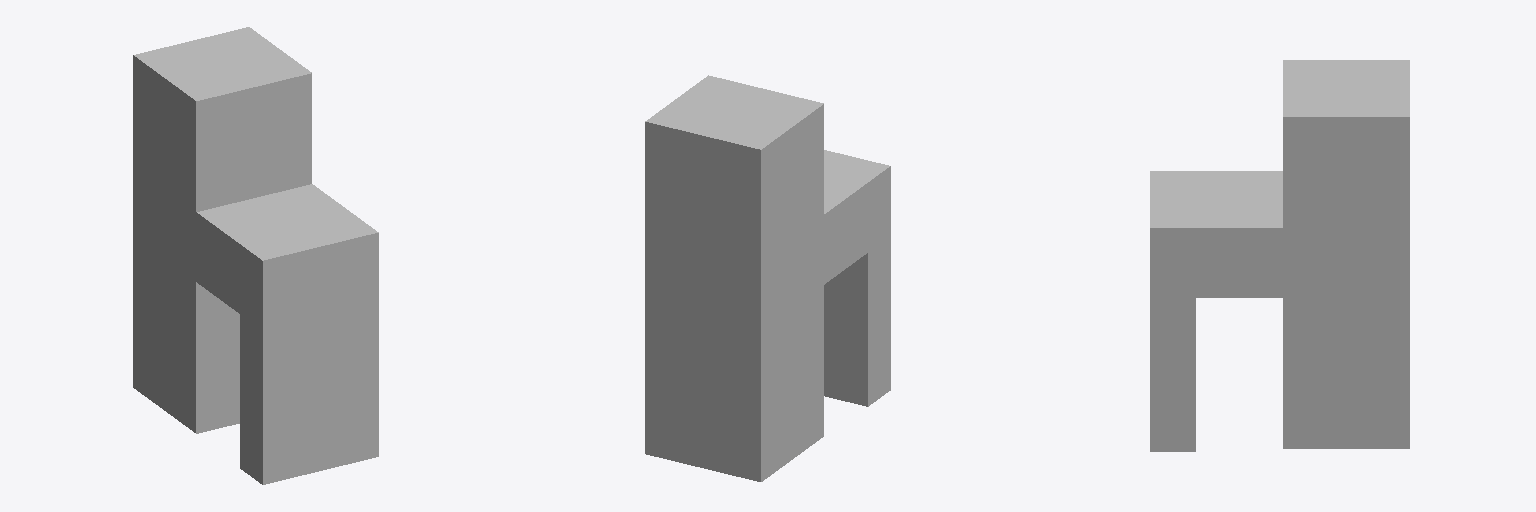
The model's file is Building3.obj.
3 renders of one model, left to right at view 1: azimuth 30°, elevation 25°; view 2: azimuth 150°, elevation 25°; view 3: azimuth 270°, elevation 25°, orthographic.
Parts seen in each view (by area): view 1: Box001; view 2: Box001; view 3: Box001.
Part boxes in pixels (x1,y1,x2,y2): Box001: (133, 27, 378, 484); Box001: (645, 75, 890, 481); Box001: (1150, 60, 1409, 451).
Bounding box in the file's own units: 35.94 × 99.28 × 69.51.